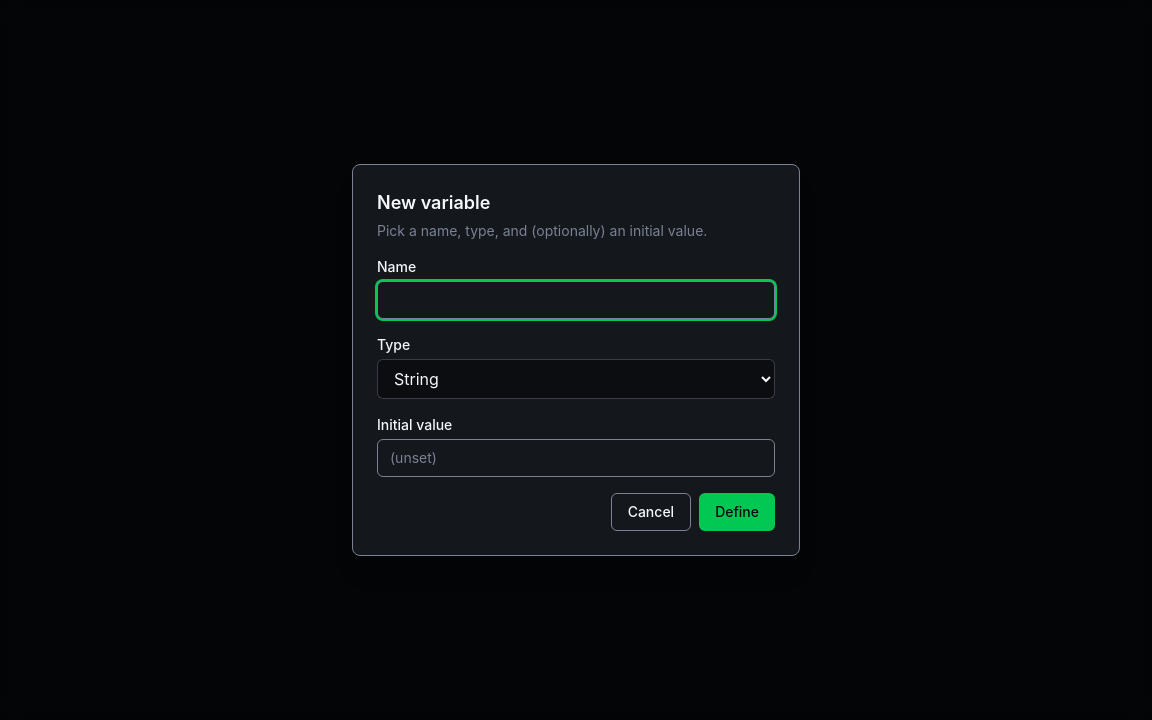
Scenario: SystemVariableDialog › Reveals the truthy/falsy label inputs when Type is Boolean
Select "Boolean" in the dropdown labelled "Type" at (576, 379), box [377,359,775,399]
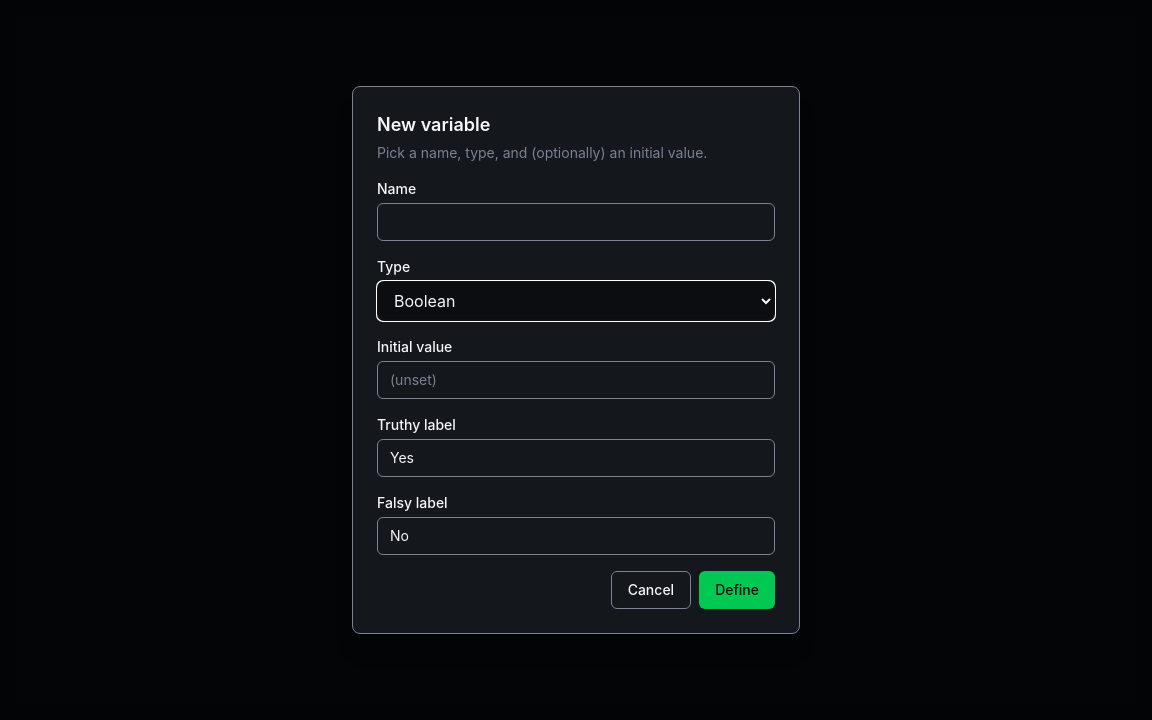
Expected: the field labelled "Truthy label" is shown, [377,439,775,477]
Expected: the field labelled "Falsy label" is shown, [377,517,775,555]
